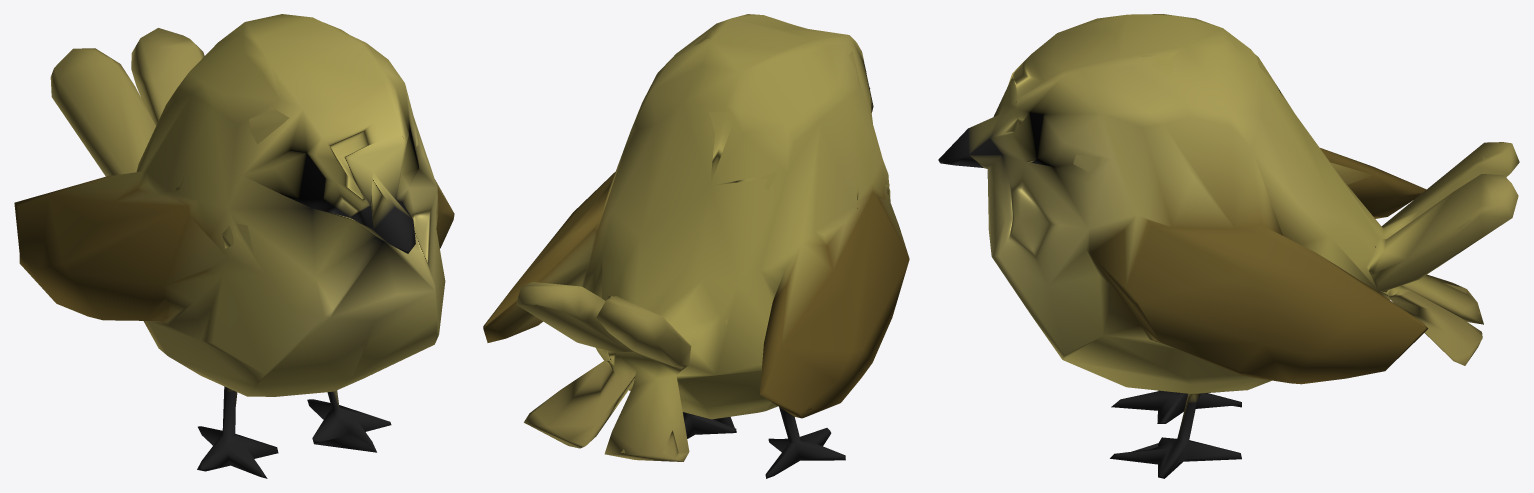
File: gen3d-small-songbird-lod1.glb
3 views of the same model, side by side, from view 1: azimuth 30°, elevation 25°; view 2: azimuth 150°, elevation 25°; view 3: azimuth 270°, elevation 25° (orthographic). The views are drawn at different scales.
Parts seen in each view (by area): view 1: part_0; view 2: part_0; view 3: part_0.
Part boxes in pixels (box(x1,y1,x2,y2)): part_0: box(14, 14, 454, 478); part_0: box(483, 14, 909, 478); part_0: box(938, 14, 1519, 478).
Size of the model in its own units: 0.8615 by 0.999 by 1.31.
